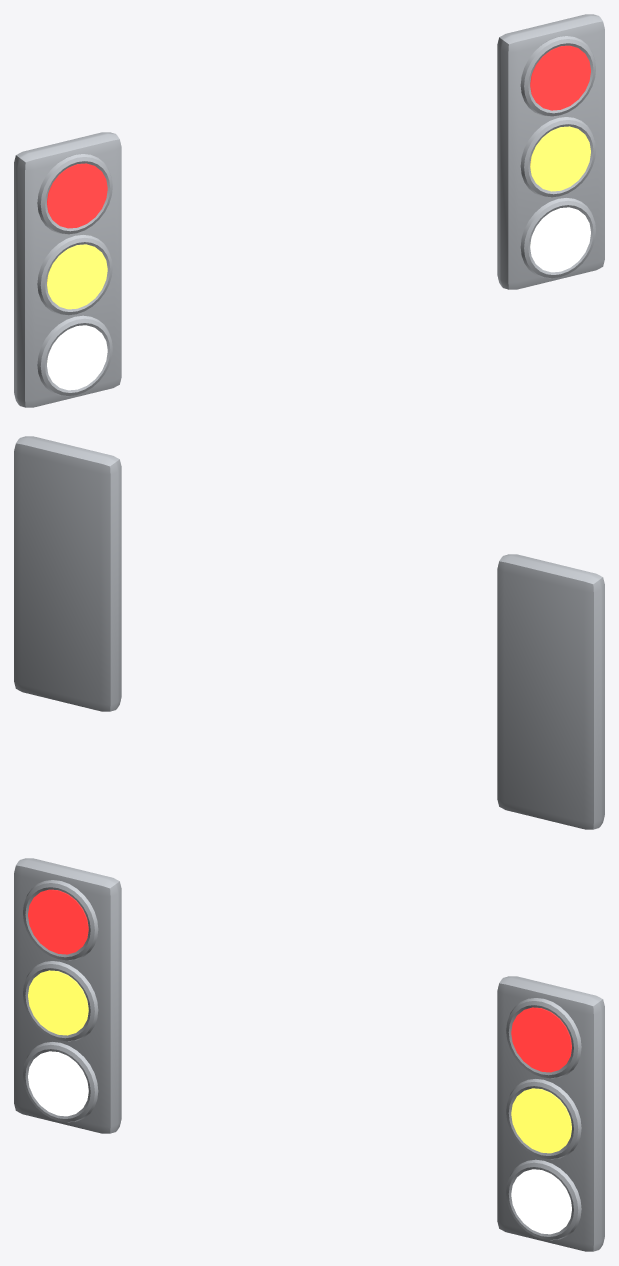
File: rear_lamp_cluster.glb
3 renders of one model, top to bottom at view 1: azimuth 30°, elevation 25°; view 2: azimuth 150°, elevation 25°; view 3: azimuth 330°, elevation 25°, orthographic.
Visible parts, largest first — view 1: chrome, lamp_white, lamp_red, lamp_amber; view 2: chrome; view 3: chrome, lamp_white, lamp_red, lamp_amber.
Boxes of the visible parts, x1,y1,x2,y2 form: chrome: (14, 14, 604, 407); lamp_white: (47, 207, 590, 390); lamp_red: (47, 45, 590, 228); lamp_amber: (47, 126, 590, 309); chrome: (14, 436, 604, 829); chrome: (14, 858, 604, 1251); lamp_white: (28, 1051, 571, 1234); lamp_red: (28, 889, 571, 1072); lamp_amber: (28, 970, 571, 1153).
Bounding box in the file's own units: 2.42 × 1 × 0.12.
